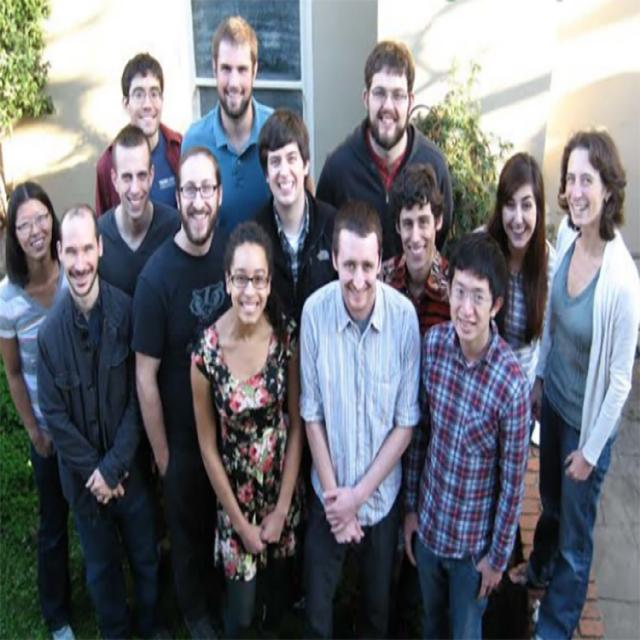body: (506, 123, 639, 639), (33, 201, 174, 639), (292, 191, 429, 638), (396, 221, 536, 639), (128, 142, 236, 640), (188, 219, 304, 639), (0, 178, 78, 640), (313, 40, 457, 288), (466, 150, 561, 440), (250, 106, 341, 348), (179, 17, 280, 230), (88, 123, 185, 306), (93, 48, 185, 222), (375, 159, 455, 326)
